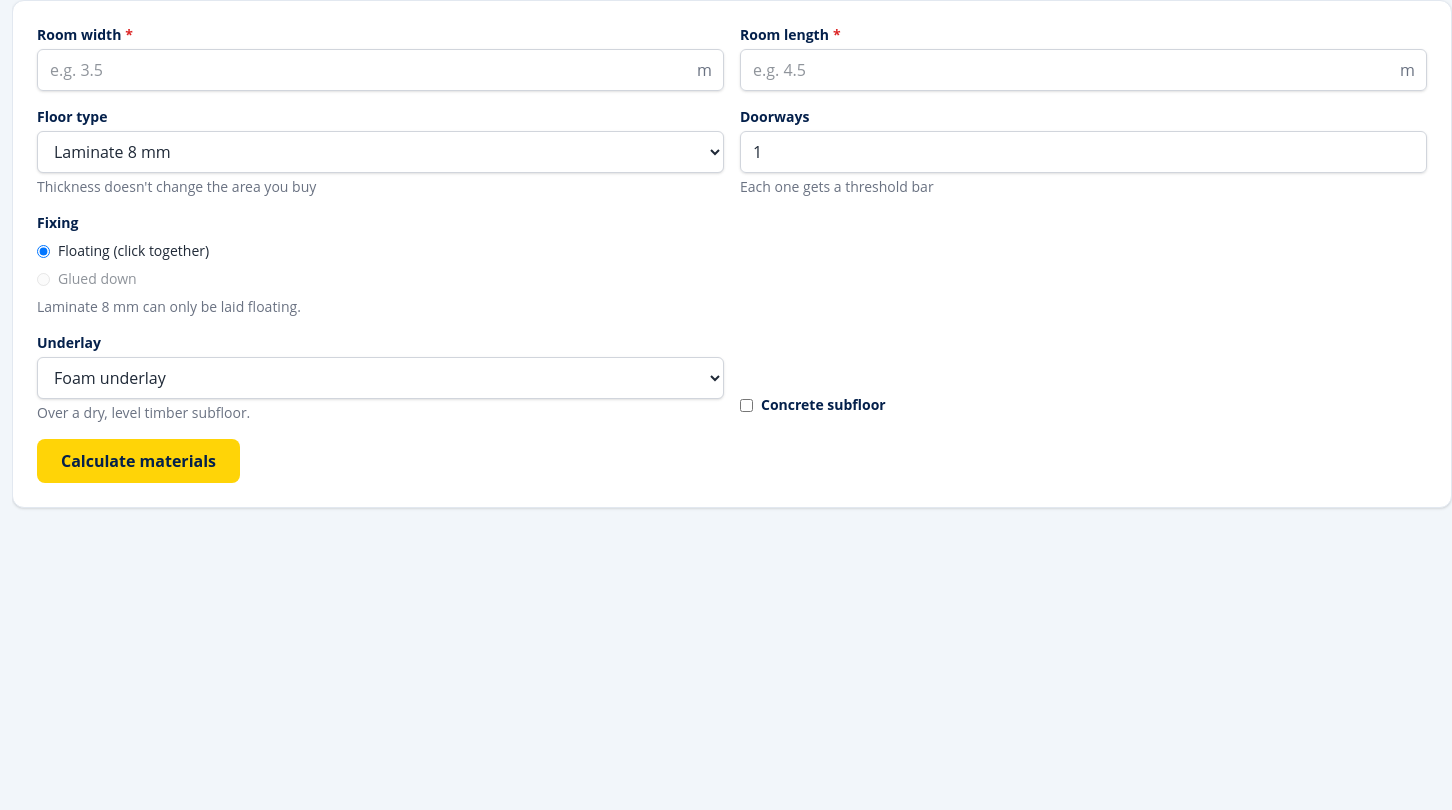
Test: FlooringCalculator › calculates a 3.5m × 4.5m room: 17.01 m² to buy with underlay and beading
Type "3.5" into the number field labelled "Room width*".
click(380, 70); type("3.5")  # box [37,49,724,91]
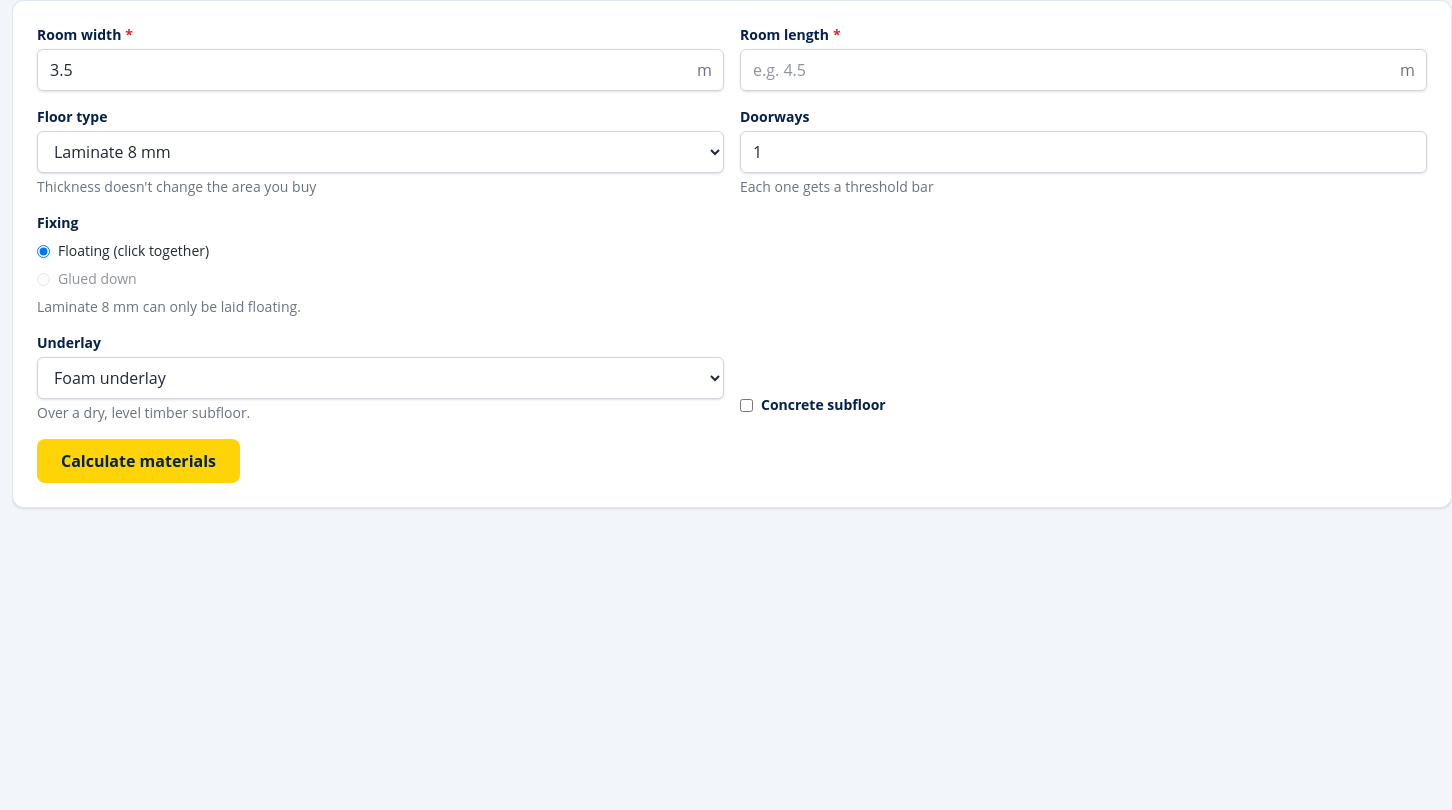
Type "4.5" into the number field labelled "Room length*".
click(1084, 70); type("4.5")  # box [740,49,1427,91]
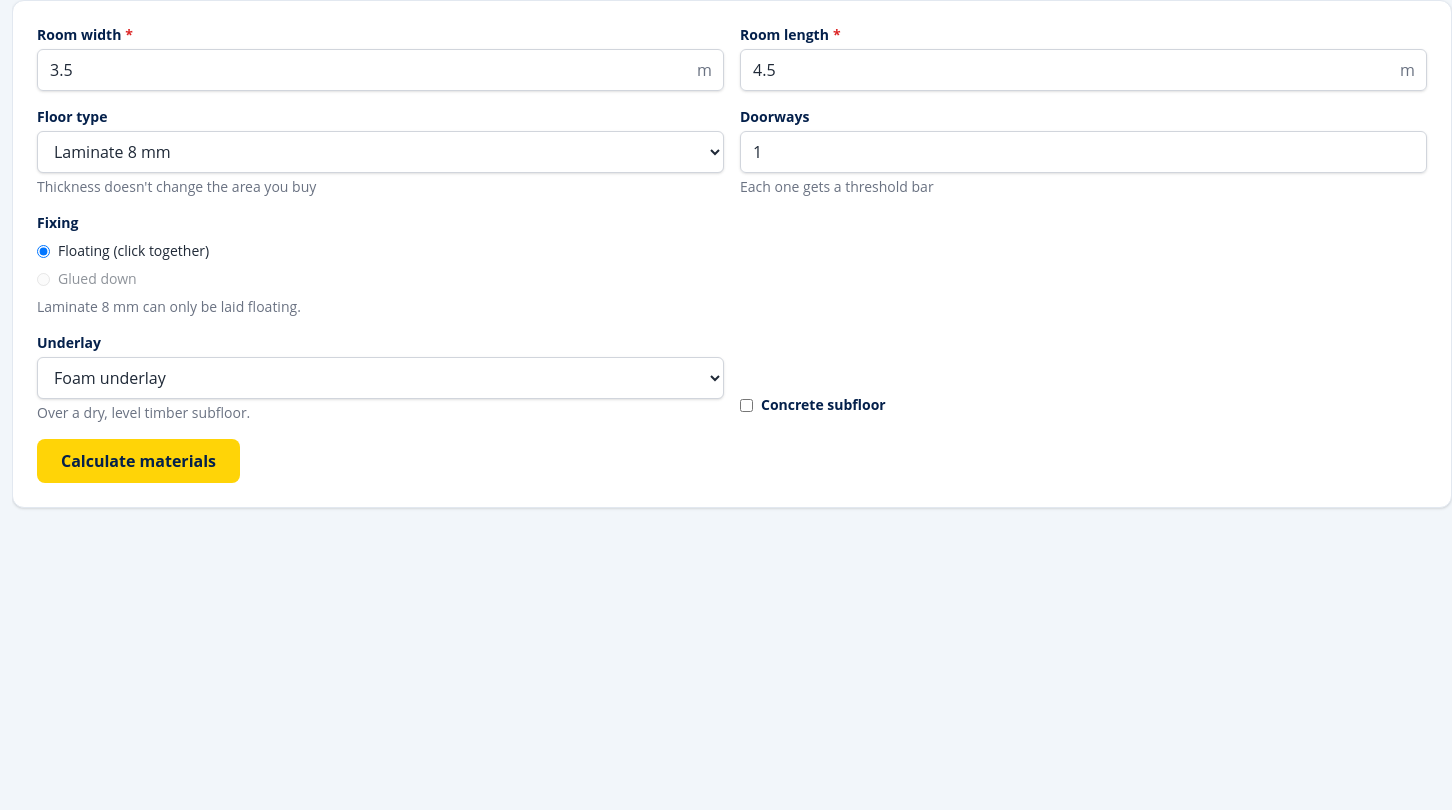
Click the button "Calculate materials".
click(138, 461)  # box [37,439,240,483]
(page scrolled)
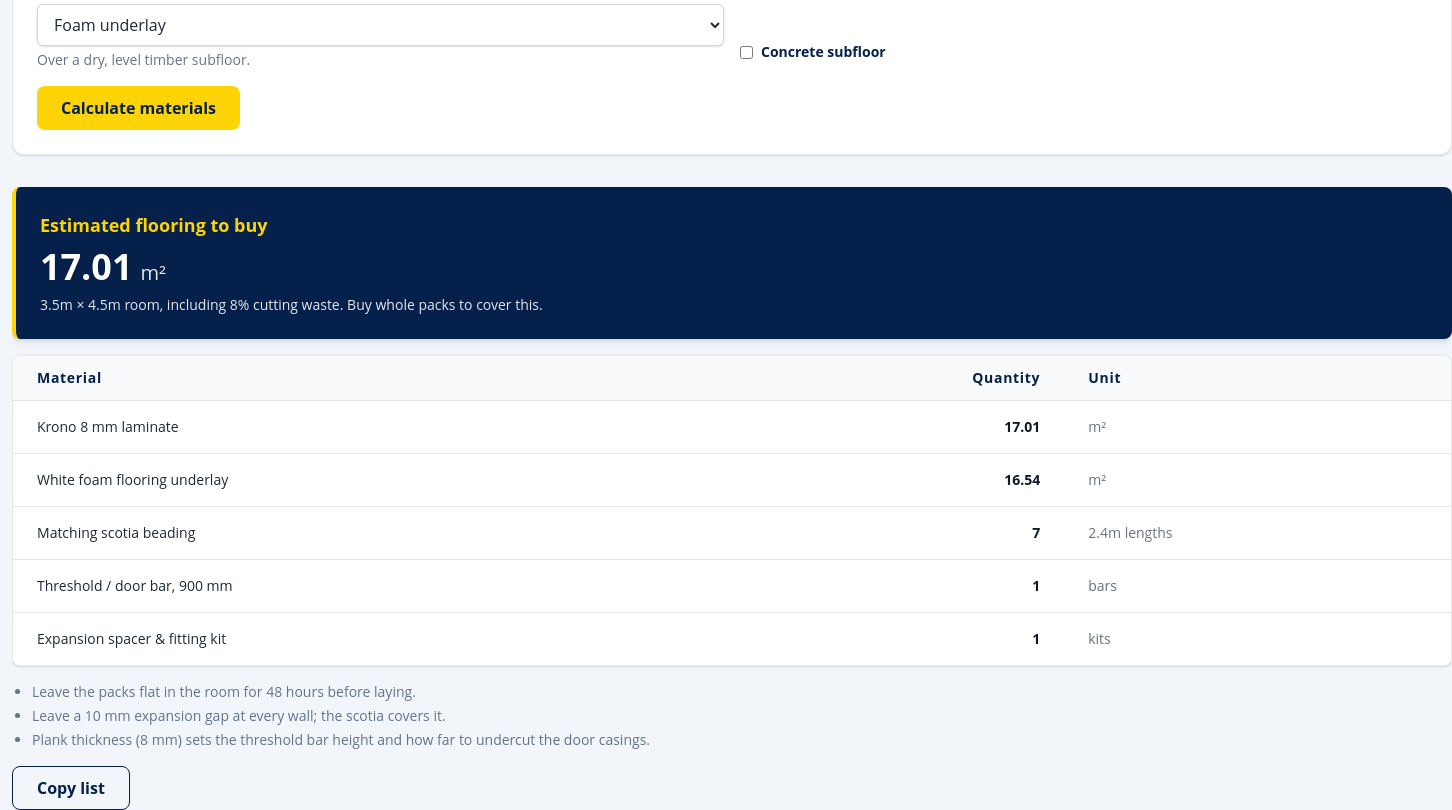
Now the row "White foam flooring underlay 16.54 m²" is shown, box [13,454,1451,506]
Now the row "Matching scotia beading 7 2.4m lengths" is shown, box [13,506,1451,560]
